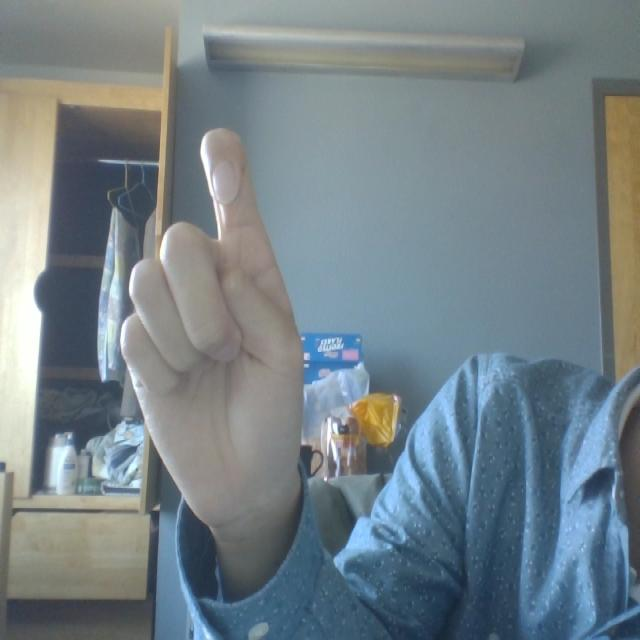X: (81, 115, 319, 553)
